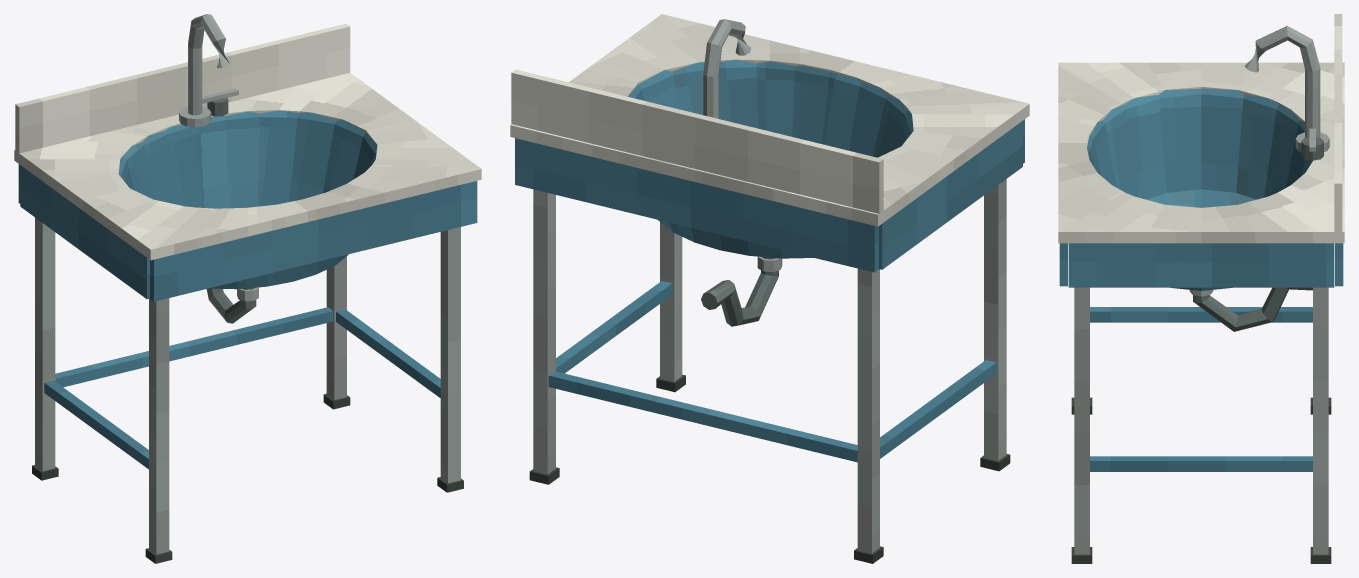
File: enamel-basin.glb
3 views of the same model, side by side, from view 1: azimuth 30°, elevation 25°; view 2: azimuth 150°, elevation 25°; view 3: azimuth 270°, elevation 25° (orthographic). The views are drawn at different scales.
Visible parts, largest first — view 1: enamel-basin/continuous-white-deck, enamel-basin/blue-glazed-basin, enamel-basin/splashback, enamel-basin/apron-long--1, enamel-basin/apron-end--1, enamel-basin/leg-0-0, enamel-basin/leg-1-0, enamel-basin/leg-0-1, enamel-basin/rear-low-tie, enamel-basin/leg-1-1, enamel-basin/gooseneck-tap, enamel-basin/end-stretcher-1 (+2 smaller); view 2: enamel-basin/continuous-white-deck, enamel-basin/splashback, enamel-basin/apron-long-1, enamel-basin/blue-glazed-basin, enamel-basin/apron-end--1, enamel-basin/leg-0-1, enamel-basin/leg-1-1, enamel-basin/leg-0-0, enamel-basin/rear-low-tie, enamel-basin/leg-1-0, enamel-basin/end-stretcher-0, enamel-basin/end-stretcher-1 (+2 smaller); view 3: enamel-basin/continuous-white-deck, enamel-basin/blue-glazed-basin, enamel-basin/apron-end-1, enamel-basin/leg-1-0, enamel-basin/leg-1-1, enamel-basin/end-stretcher-1, enamel-basin/end-stretcher-0, enamel-basin/gooseneck-tap, enamel-basin/splashback, enamel-basin/drain-trap, enamel-basin/tap-control, enamel-basin/apron-long--1 (+1 smaller).
Part boxes in pixels (left/top/right/bottom): enamel-basin/continuous-white-deck: left=14, top=73, right=481, bottom=260; enamel-basin/blue-glazed-basin: left=119, top=110, right=377, bottom=289; enamel-basin/splashback: left=15, top=23, right=350, bottom=153; enamel-basin/apron-long--1: left=150, top=181, right=477, bottom=301; enamel-basin/apron-end--1: left=20, top=165, right=149, bottom=299; enamel-basin/leg-0-0: left=149, top=298, right=169, bottom=554; enamel-basin/leg-1-0: left=440, top=227, right=460, bottom=483; enamel-basin/leg-0-1: left=35, top=217, right=55, bottom=471; enamel-basin/rear-low-tie: left=55, top=307, right=333, bottom=387; enamel-basin/leg-1-1: left=326, top=256, right=346, bottom=399; enamel-basin/gooseneck-tap: left=188, top=14, right=230, bottom=115; enamel-basin/end-stretcher-1: left=336, top=309, right=440, bottom=397; enamel-basin/continuous-white-deck: left=510, top=14, right=1029, bottom=226; enamel-basin/splashback: left=511, top=69, right=883, bottom=213; enamel-basin/apron-long-1: left=515, top=138, right=878, bottom=272; enamel-basin/blue-glazed-basin: left=628, top=59, right=913, bottom=258; enamel-basin/apron-end--1: left=879, top=121, right=1022, bottom=269; enamel-basin/leg-0-1: left=857, top=268, right=879, bottom=553; enamel-basin/leg-1-1: left=533, top=189, right=555, bottom=474; enamel-basin/leg-0-0: left=984, top=179, right=1006, bottom=460; enamel-basin/rear-low-tie: left=548, top=371, right=857, bottom=462; enamel-basin/leg-1-0: left=660, top=222, right=682, bottom=381; enamel-basin/end-stretcher-0: left=880, top=360, right=996, bottom=458; enamel-basin/end-stretcher-1: left=556, top=281, right=672, bottom=373; enamel-basin/continuous-white-deck: left=1058, top=62, right=1344, bottom=243; enamel-basin/blue-glazed-basin: left=1087, top=88, right=1312, bottom=290; enamel-basin/apron-end-1: left=1068, top=243, right=1334, bottom=287; enamel-basin/leg-1-0: left=1074, top=287, right=1089, bottom=554; enamel-basin/leg-1-1: left=1313, top=287, right=1328, bottom=554; enamel-basin/end-stretcher-1: left=1090, top=456, right=1312, bottom=471; enamel-basin/end-stretcher-0: left=1090, top=307, right=1312, bottom=322; enamel-basin/gooseneck-tap: left=1244, top=26, right=1320, bottom=137; enamel-basin/splashback: left=1334, top=14, right=1342, bottom=231; enamel-basin/drain-trap: left=1193, top=287, right=1312, bottom=331; enamel-basin/tap-control: left=1301, top=137, right=1323, bottom=160; enamel-basin/apron-long--1: left=1059, top=243, right=1067, bottom=286.
Bounding box in the file's own units: 0.875 × 1.1 × 0.625.
Materials: 5 (5 with a texture image).
